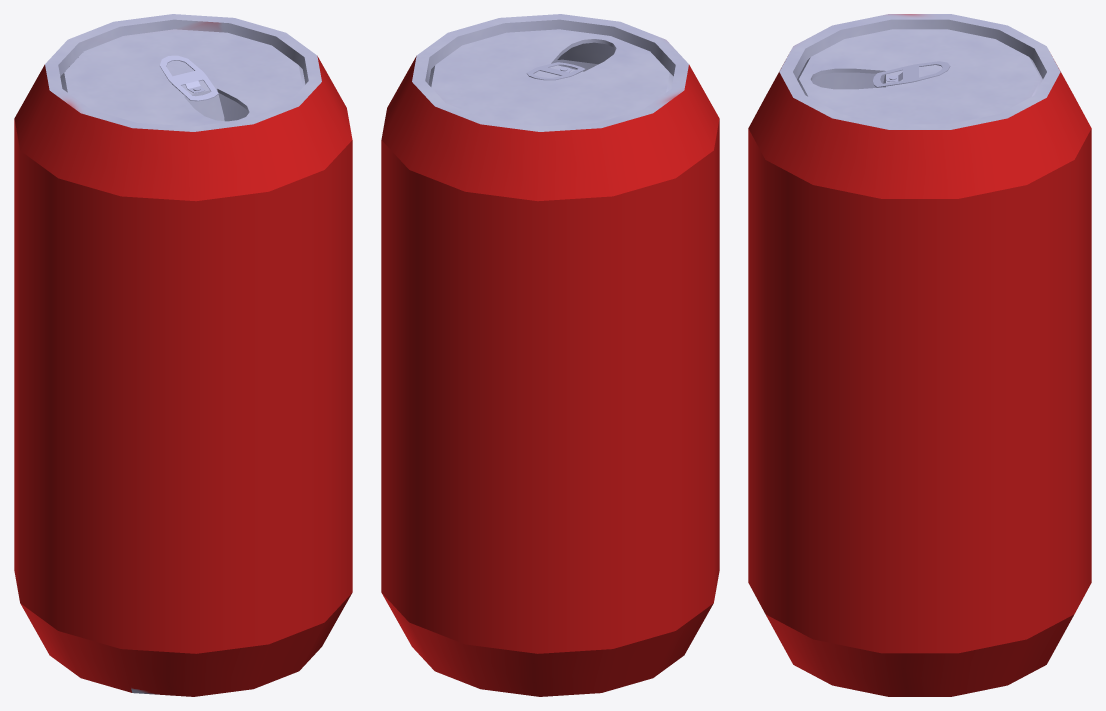
File: Can1.fbx
The picture shows the model from 3 angles, left to right: view 1: azimuth 30°, elevation 25°; view 2: azimuth 150°, elevation 25°; view 3: azimuth 270°, elevation 25°; orthographic projection.
Visible parts, largest first — view 1: Can1; view 2: Can1; view 3: Can1.
Boxes of the visible parts, x1,y1,x2,y2 form: Can1: (14, 14, 352, 696); Can1: (381, 14, 719, 696); Can1: (748, 14, 1091, 696).
Bounding box in the file's own units: 0.0794 × 0.1501 × 0.0815.
